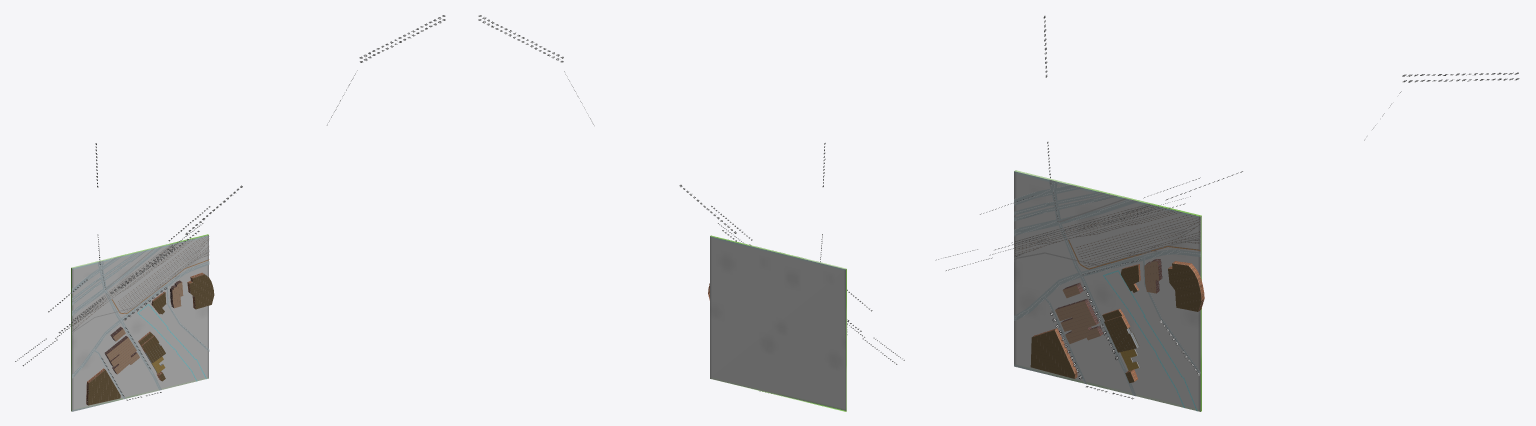
The picture shows the model from 3 angles, left to right: view 1: azimuth 30°, elevation 25°; view 2: azimuth 150°, elevation 25°; view 3: azimuth 330°, elevation 25°; orthographic projection. The views are drawn at different scales.
Visible parts, largest first — view 1: POLYGON, POLYLINE, BUILDING, FONT; view 2: POLYGON, FONT; view 3: POLYGON, POLYLINE, BUILDING, FONT.
Part boxes in pixels (x1=…): POLYGON: x1=71, y1=234, x2=208, y2=411; POLYLINE: x1=72, y1=235, x2=209, y2=411; BUILDING: x1=86, y1=272, x2=214, y2=405; FONT: x1=15, y1=15, x2=445, y2=400; POLYGON: x1=710, y1=235, x2=846, y2=411; FONT: x1=478, y1=15, x2=904, y2=393; POLYGON: x1=1014, y1=170, x2=1201, y2=411; POLYLINE: x1=1014, y1=179, x2=1200, y2=411; BUILDING: x1=1030, y1=259, x2=1204, y2=383; FONT: x1=935, y1=16, x2=1519, y2=399.
Size of the model in its own units: 1919 by 1314 by 29.
Materials: 3 (3 with a texture image).
